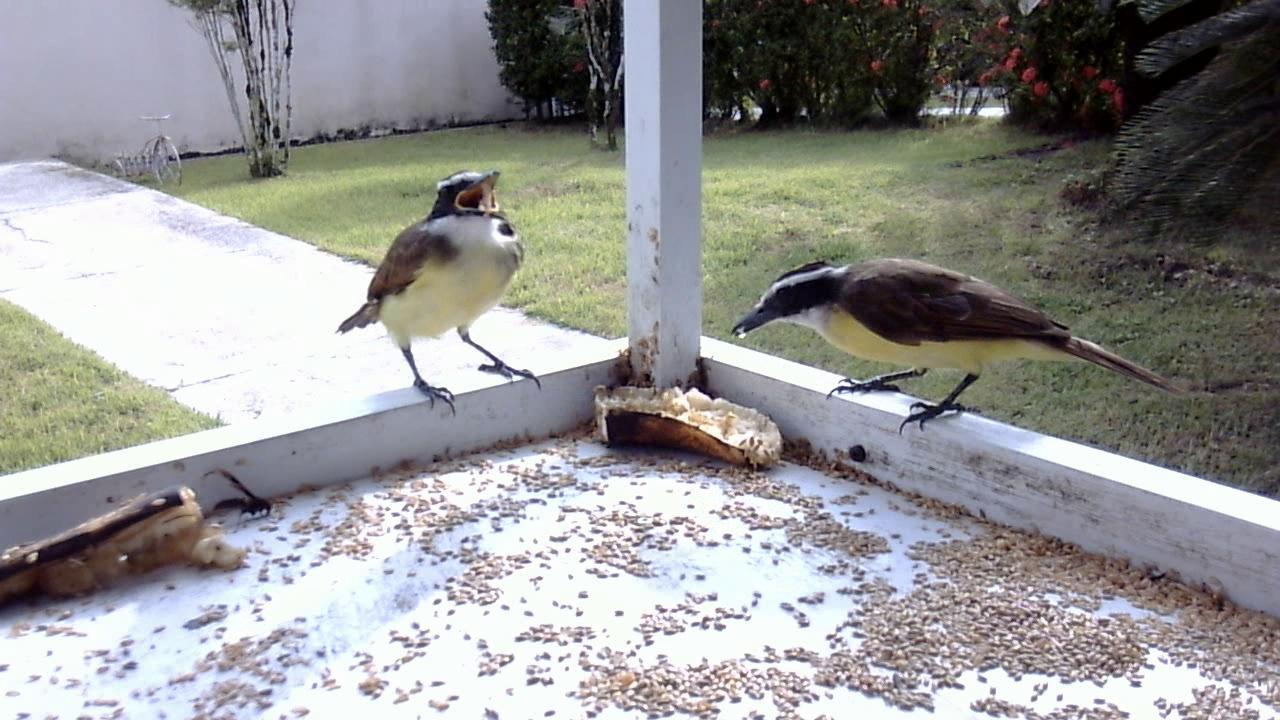bem_te_vi: (714, 242, 1212, 452), (324, 165, 546, 430)
